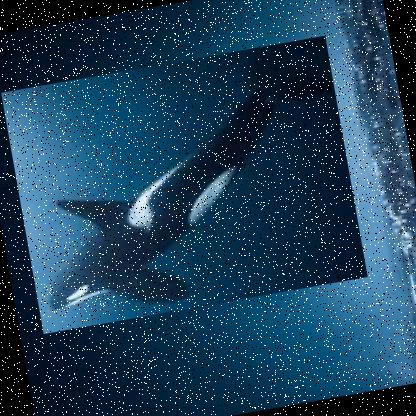killer_whale: (0, 35, 367, 336)
